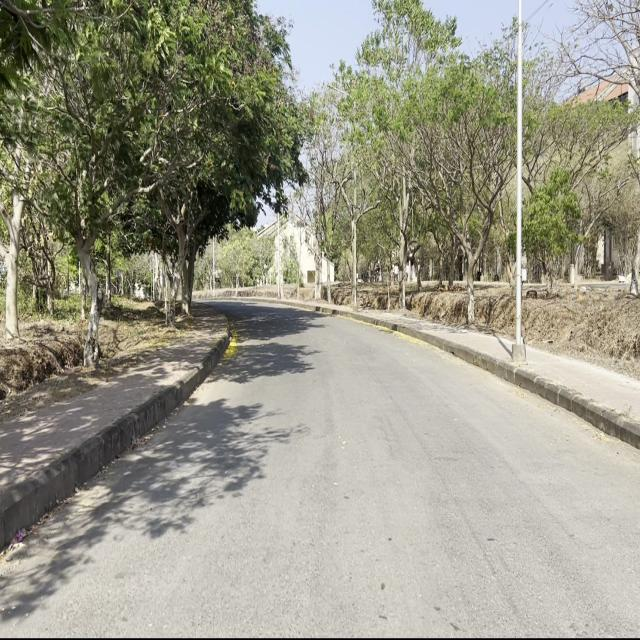Road: (4, 299, 636, 631)
